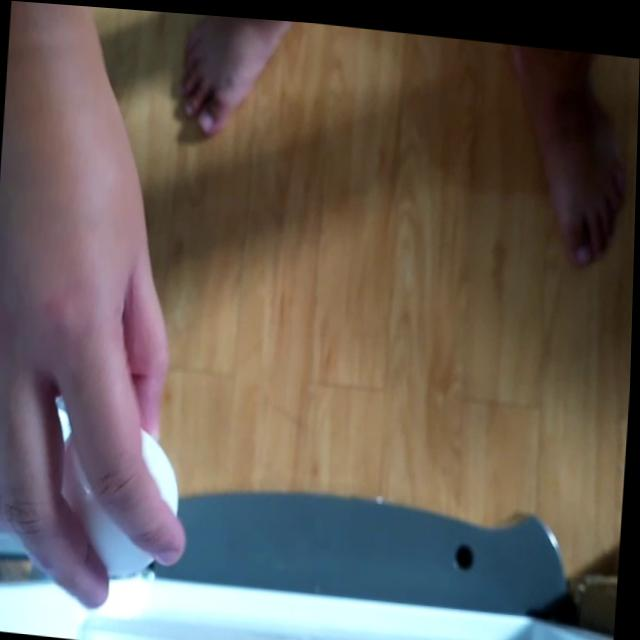egg: (59, 414, 185, 585)
